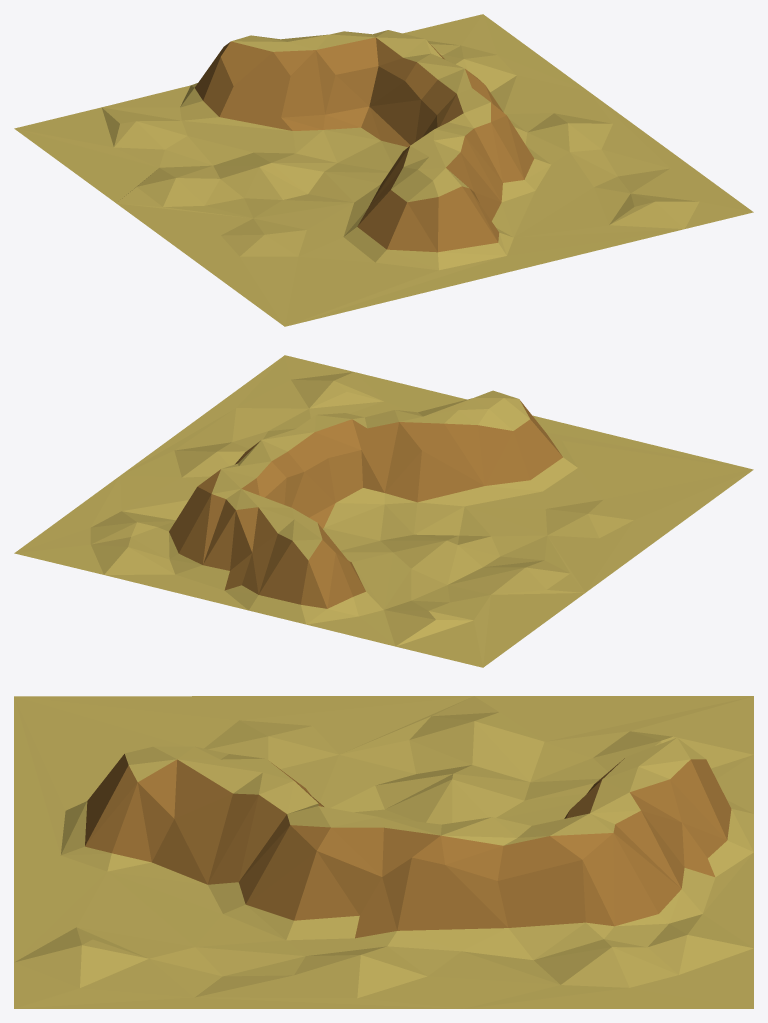
The model's file is result.gltf.
3 renders of one model, top to bottom at view 1: azimuth 30°, elevation 25°; view 2: azimuth 150°, elevation 25°; view 3: azimuth 270°, elevation 25°, orthographic. The views are drawn at different scales.
Parts seen in each view (by area): view 1: Terrain_1; view 2: Terrain_1; view 3: Terrain_1.
Boxes of the visible parts, x1,y1,x2,y2 form: Terrain_1: (14, 14, 753, 326); Terrain_1: (14, 355, 753, 667); Terrain_1: (14, 696, 753, 1008).
Bounding box in the file's own units: 2000 × 277 × 2000.
